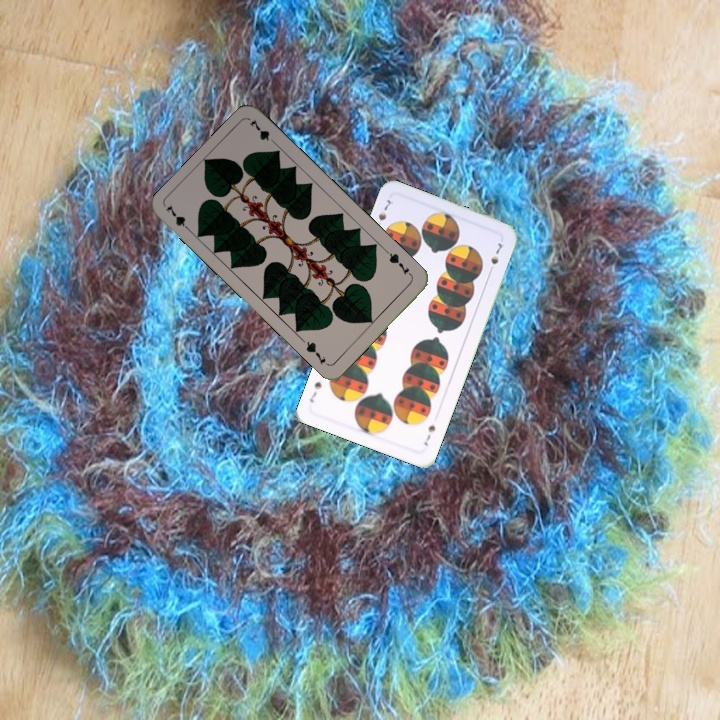G7: (162, 200, 195, 235), (382, 247, 415, 279)
S7: (372, 193, 395, 232), (420, 421, 438, 448)
